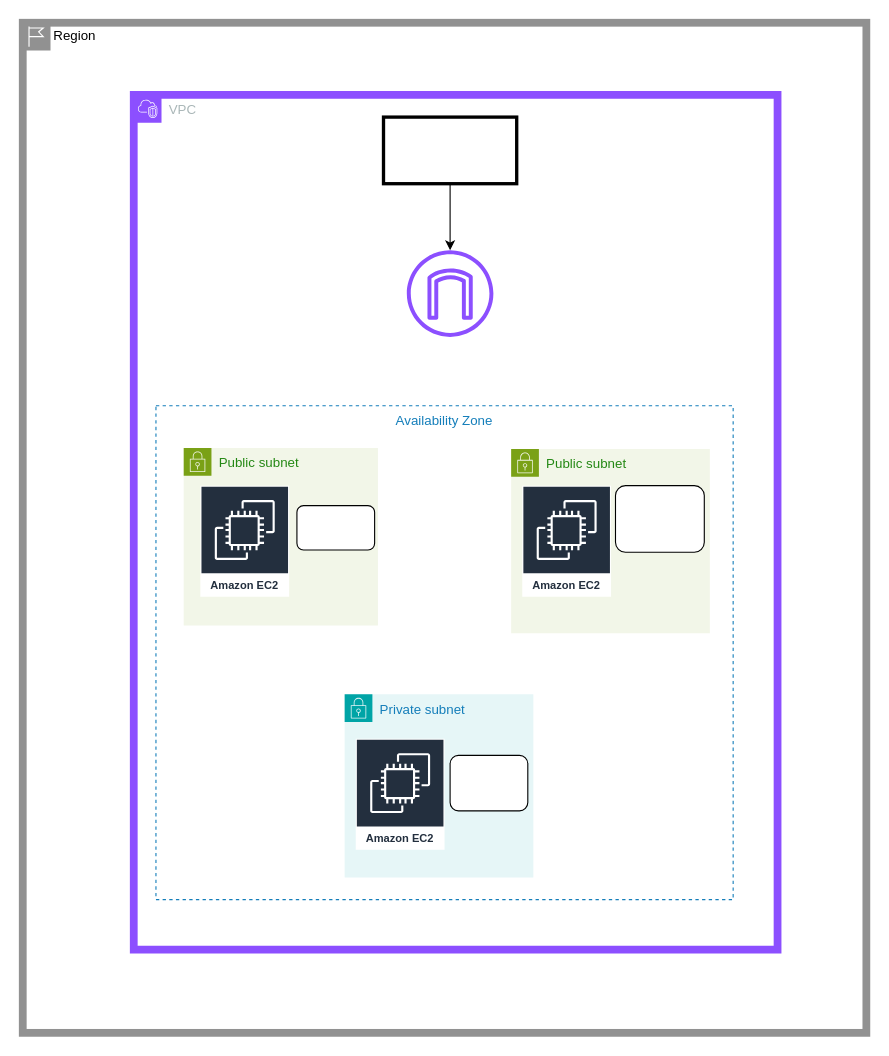
Some shapes in this 889 by 1056 pixel diagram are drawn without their labels. The centre of each missing label's shape, as x and y in pixels:
Jenkins: point (335, 527)
Micro K8s Env - Dev,Test,Pre-Prod: point (659, 518)
Mongo Tiaga Doc: point (488, 782)
Static IP: point (449, 150)
